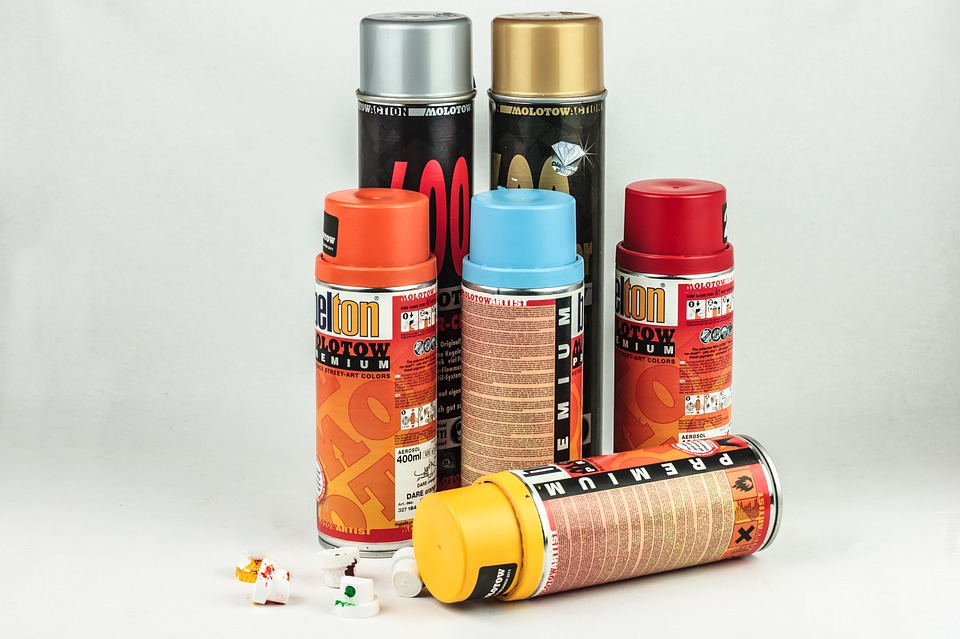Aerosol_cans: (408, 427, 790, 613), (310, 185, 444, 565), (456, 184, 584, 489), (612, 176, 736, 454)
